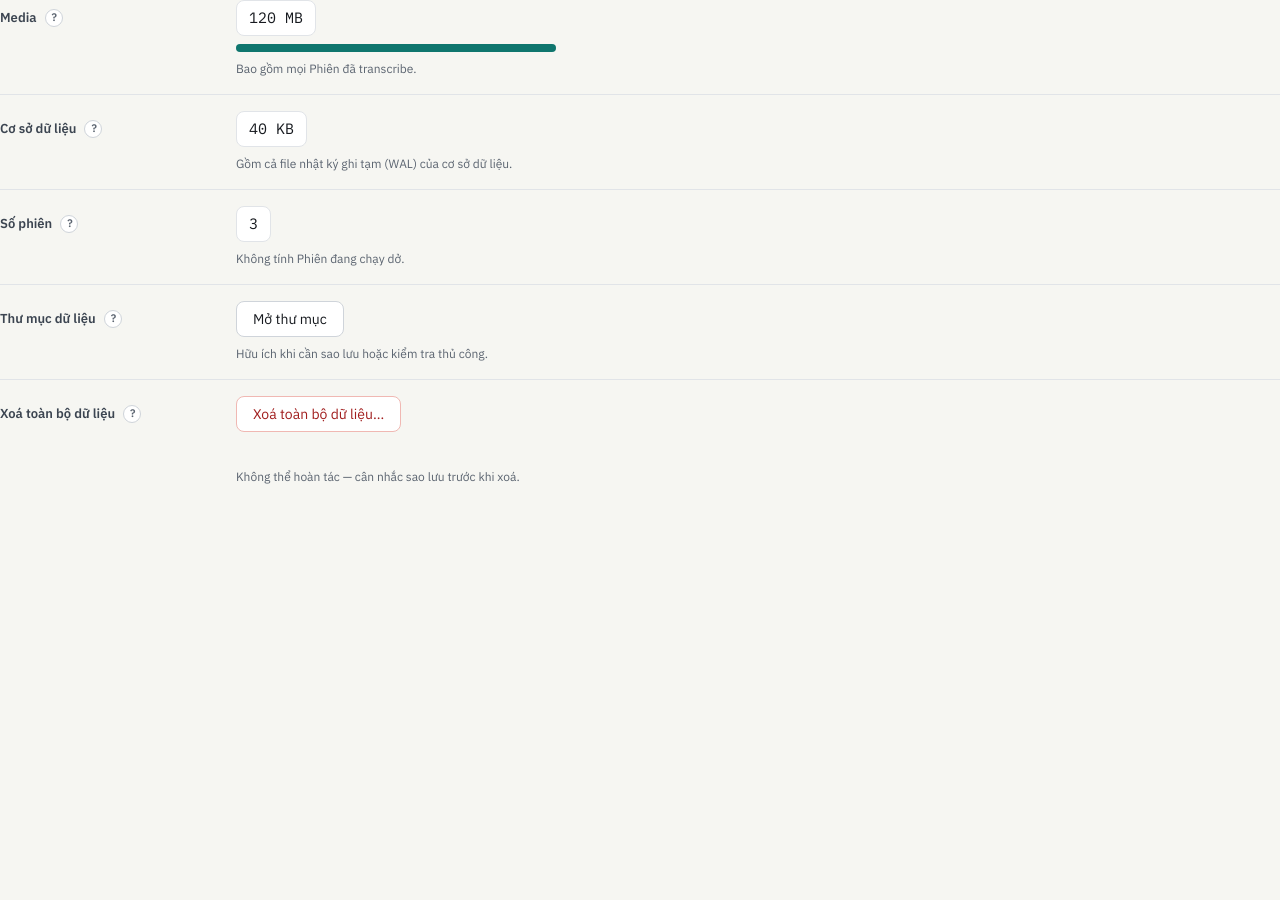
Test: SettingsStorage › shows an inline error banner when the wipe itself fails
Check: the text "120 MB" is shown, box [236, 0, 316, 36]
Click the button "Xoá toàn bộ dữ liệu…" at coordinates (319, 414), box [236, 396, 401, 432]
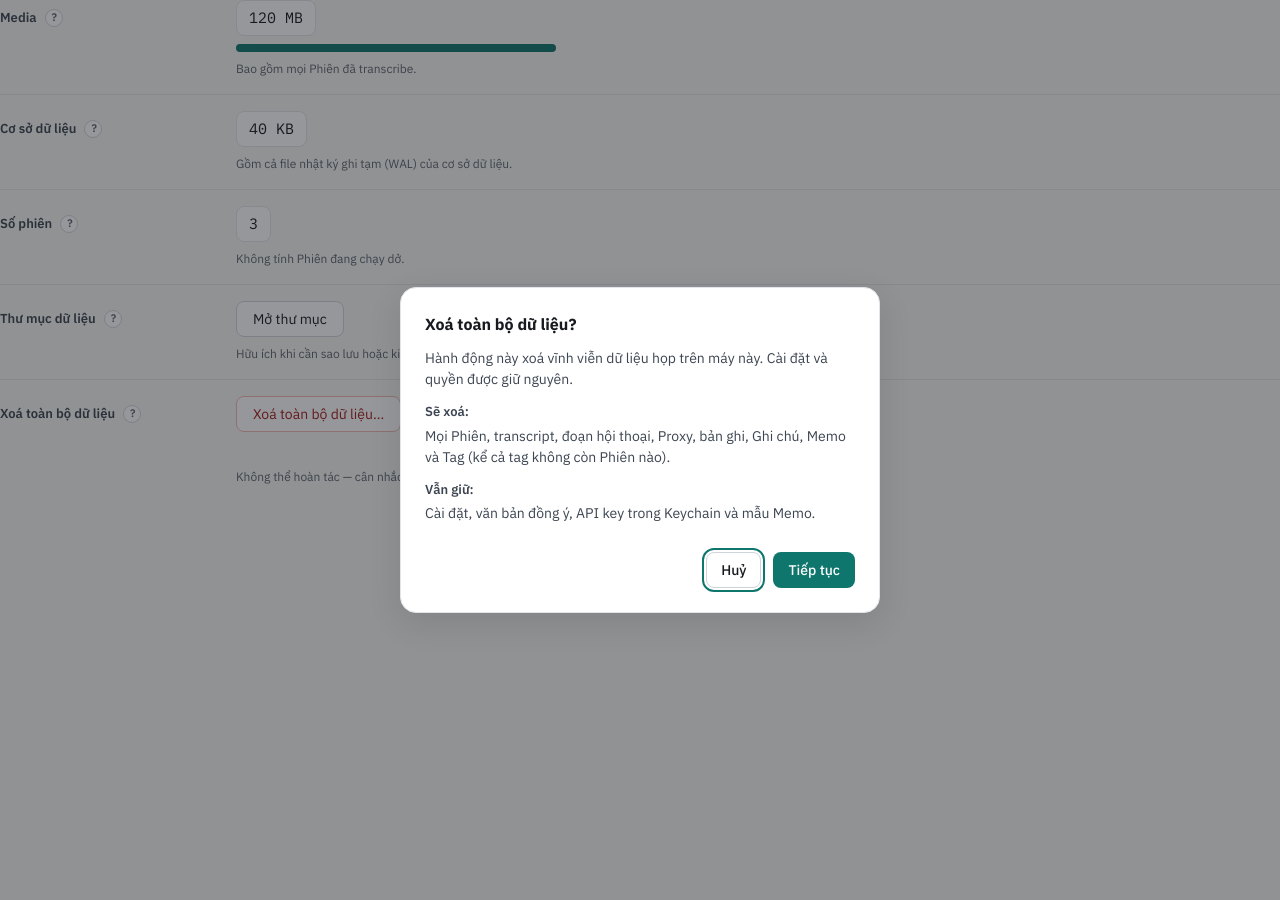
Click the button "Tiếp tục" at coordinates (814, 570), box [774, 552, 855, 588]
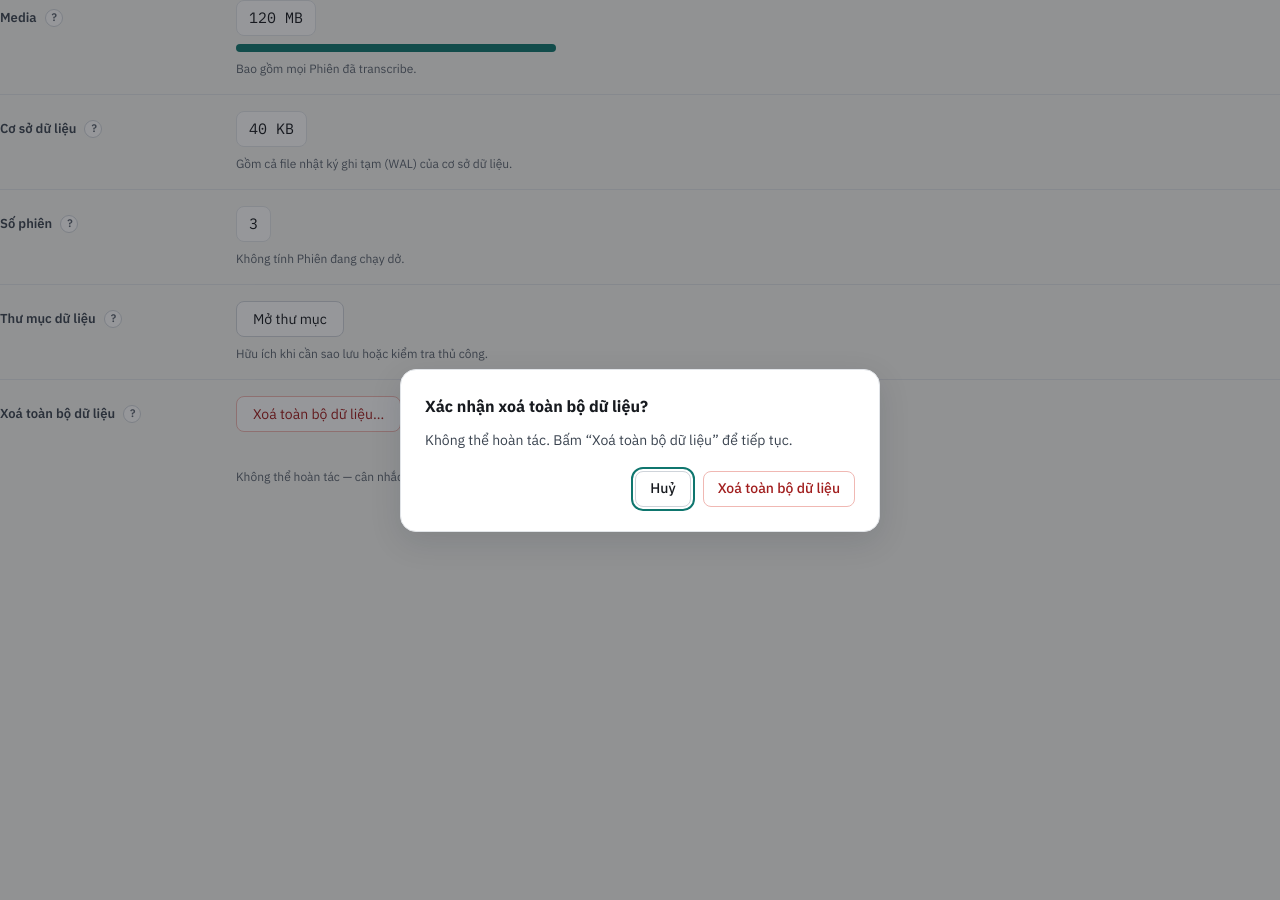
Click the button "Xoá toàn bộ dữ liệu" at coordinates (779, 488), box [703, 470, 855, 506]
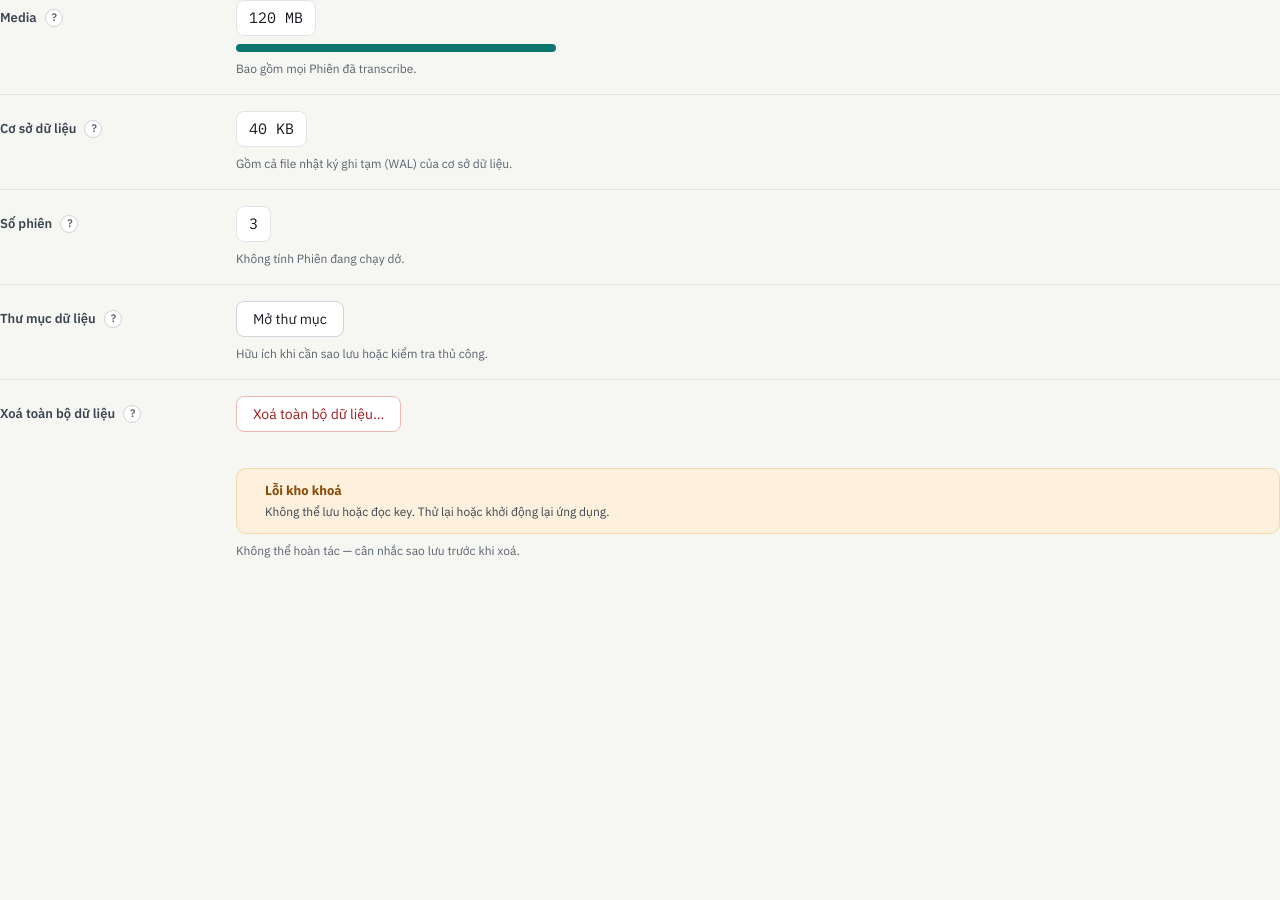
Check: the text "Lỗi kho khoá" is shown, box [265, 482, 342, 499]
